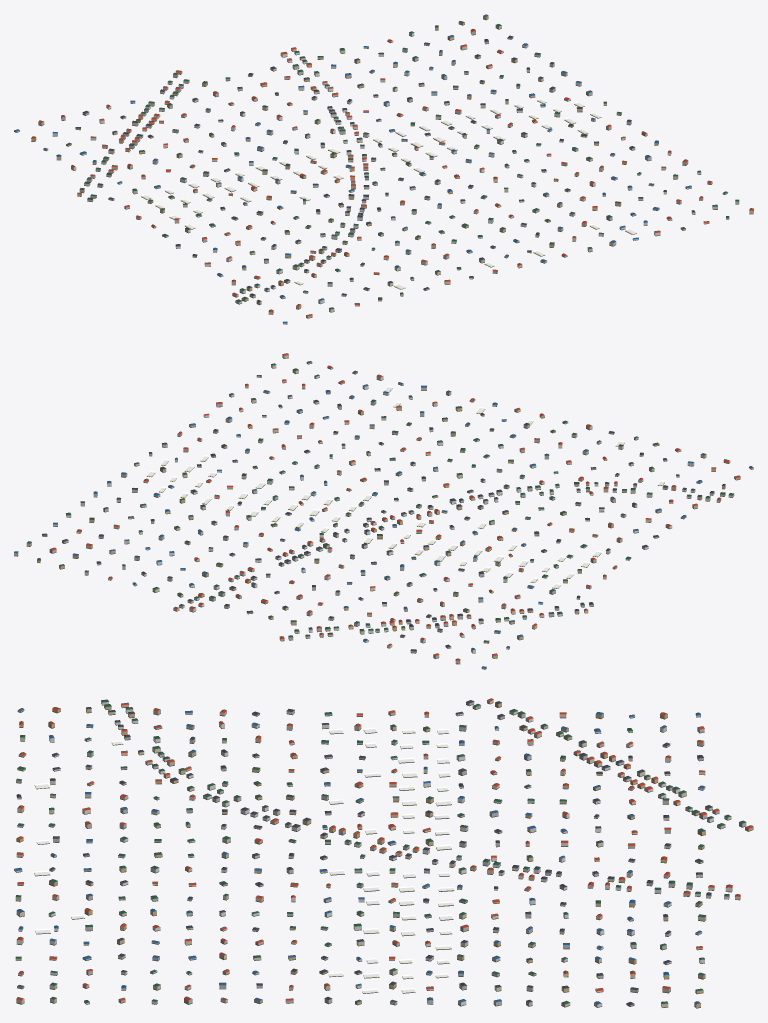
File: buildings_T_E01_S03.glb
3 views of the same model, one above another, from view 1: azimuth 30°, elevation 25°; view 2: azimuth 150°, elevation 25°; view 3: azimuth 270°, elevation 25° (orthographic). The views are drawn at different scales.
Parts seen in each view (by area): view 1: T_E01_S03_slope_seating_foundations, T_E01_S03_walls_wall_pastel_sand_gray, T_E01_S03_roofs_agri_greenhouse_arch, T_E01_S03_walls_wall_modern_warm_white, T_E01_S03_roofs_roof_terracotta_gable, T_E01_S03_walls_wall_french_ochre_villa, T_E01_S03_roofs_roof_pine_green_hip, T_E01_S03_walls_wall_dalat_cream_stucco, T_E01_S03_roofs_roof_slate_French_villa_hip, T_E01_S03_roofs_roof_highland_blue_gable; view 2: T_E01_S03_slope_seating_foundations, T_E01_S03_walls_wall_pastel_sand_gray, T_E01_S03_roofs_agri_greenhouse_arch, T_E01_S03_walls_wall_modern_warm_white, T_E01_S03_walls_wall_french_ochre_villa, T_E01_S03_roofs_roof_pine_green_hip, T_E01_S03_roofs_roof_terracotta_gable, T_E01_S03_roofs_roof_slate_French_villa_hip, T_E01_S03_walls_wall_dalat_cream_stucco, T_E01_S03_roofs_roof_highland_blue_gable; view 3: T_E01_S03_slope_seating_foundations, T_E01_S03_walls_wall_pastel_sand_gray, T_E01_S03_roofs_agri_greenhouse_arch, T_E01_S03_walls_wall_modern_warm_white, T_E01_S03_walls_wall_french_ochre_villa, T_E01_S03_roofs_roof_pine_green_hip, T_E01_S03_roofs_roof_terracotta_gable, T_E01_S03_walls_wall_dalat_cream_stucco, T_E01_S03_roofs_roof_slate_French_villa_hip, T_E01_S03_roofs_roof_highland_blue_gable.
Part boxes in pixels (x1=…): T_E01_S03_slope_seating_foundations: x1=14, y1=18, x2=753, y2=324; T_E01_S03_walls_wall_pastel_sand_gray: x1=14, y1=30, x2=729, y2=305; T_E01_S03_roofs_agri_greenhouse_arch: x1=141, y1=98, x2=636, y2=289; T_E01_S03_walls_wall_modern_warm_white: x1=52, y1=32, x2=727, y2=303; T_E01_S03_roofs_roof_terracotta_gable: x1=31, y1=29, x2=753, y2=316; T_E01_S03_walls_wall_french_ochre_villa: x1=31, y1=16, x2=712, y2=323; T_E01_S03_roofs_roof_pine_green_hip: x1=66, y1=21, x2=739, y2=309; T_E01_S03_walls_wall_dalat_cream_stucco: x1=71, y1=25, x2=753, y2=312; T_E01_S03_roofs_roof_slate_French_villa_hip: x1=75, y1=35, x2=666, y2=301; T_E01_S03_roofs_roof_highland_blue_gable: x1=15, y1=14, x2=691, y2=322; T_E01_S03_slope_seating_foundations: x1=14, y1=357, x2=753, y2=669; T_E01_S03_walls_wall_pastel_sand_gray: x1=42, y1=362, x2=721, y2=669; T_E01_S03_roofs_agri_greenhouse_arch: x1=146, y1=386, x2=664, y2=588; T_E01_S03_walls_wall_modern_warm_white: x1=53, y1=375, x2=734, y2=653; T_E01_S03_walls_wall_french_ochre_villa: x1=14, y1=372, x2=753, y2=658; T_E01_S03_roofs_roof_pine_green_hip: x1=27, y1=361, x2=733, y2=642; T_E01_S03_roofs_roof_terracotta_gable: x1=51, y1=353, x2=740, y2=660; T_E01_S03_roofs_roof_slate_French_villa_hip: x1=42, y1=395, x2=725, y2=651; T_E01_S03_walls_wall_dalat_cream_stucco: x1=26, y1=354, x2=714, y2=638; T_E01_S03_roofs_roof_highland_blue_gable: x1=14, y1=382, x2=753, y2=668; T_E01_S03_slope_seating_foundations: x1=14, y1=702, x2=753, y2=1008; T_E01_S03_walls_wall_pastel_sand_gray: x1=15, y1=702, x2=746, y2=1006; T_E01_S03_roofs_agri_greenhouse_arch: x1=34, y1=727, x2=454, y2=993; T_E01_S03_walls_wall_modern_warm_white: x1=16, y1=701, x2=732, y2=1007; T_E01_S03_walls_wall_french_ochre_villa: x1=15, y1=703, x2=753, y2=1007; T_E01_S03_roofs_roof_pine_green_hip: x1=15, y1=699, x2=746, y2=1004; T_E01_S03_roofs_roof_terracotta_gable: x1=16, y1=698, x2=753, y2=1000; T_E01_S03_walls_wall_dalat_cream_stucco: x1=14, y1=700, x2=740, y2=1007; T_E01_S03_roofs_roof_slate_French_villa_hip: x1=16, y1=700, x2=713, y2=1005; T_E01_S03_roofs_roof_highland_blue_gable: x1=14, y1=708, x2=705, y2=1004.
Size of the model in its own units: 1825 by 36.05 by 1872.
